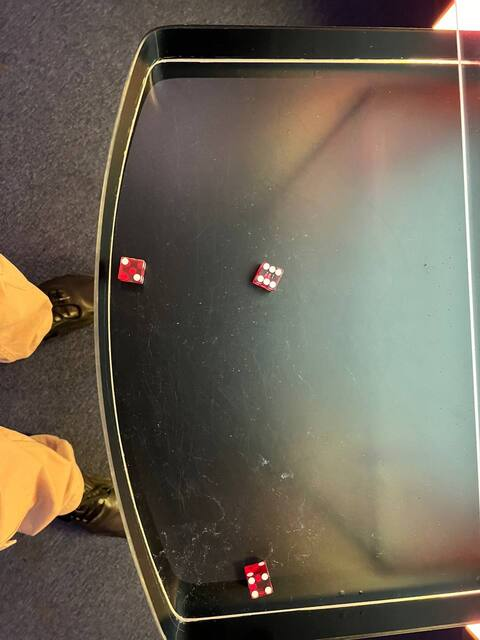four: (244, 569, 277, 602)
six: (250, 259, 287, 292)
two: (115, 253, 148, 285)
